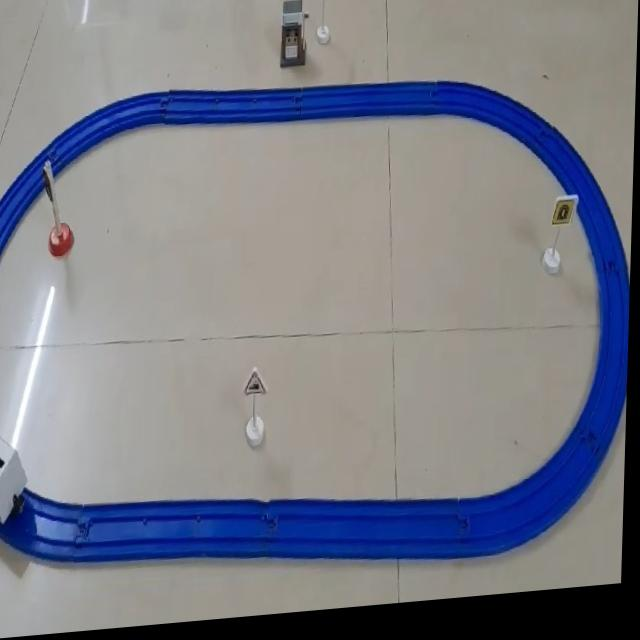bus: (0, 414, 38, 532)
